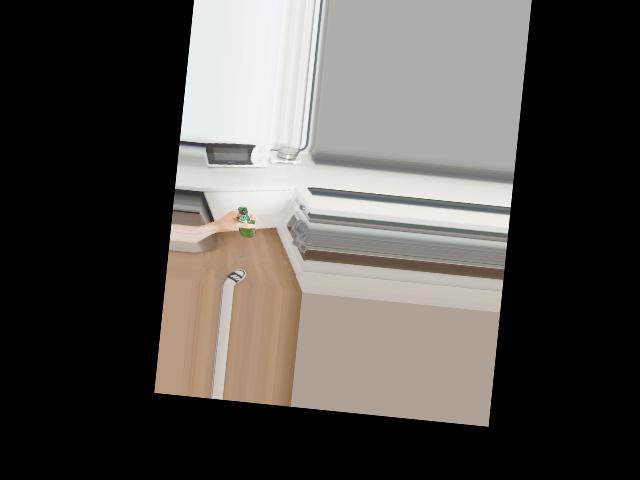beer: (235, 206, 257, 239)
